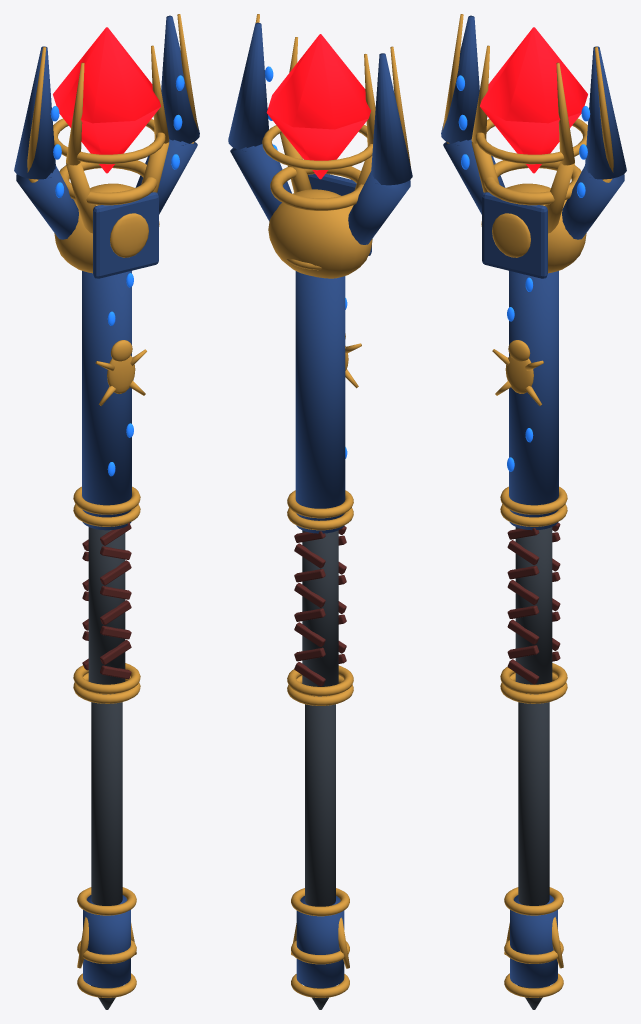
Rendered from royal_vanguard_staff.glb.
The picture shows the model from 3 angles, left to right: view 1: azimuth 30°, elevation 25°; view 2: azimuth 150°, elevation 25°; view 3: azimuth 330°, elevation 25°; orthographic projection.
Parts seen in each view (by area): view 1: RoyalStaff_UpperShaft, RoyalStaff_LowerShaft, RoyalStaff_RubyFocusUpper, RoyalStaff_GripCore, RoyalStaff_HeadShield, RoyalStaff_BlueButtSleeve, RoyalStaff_BlueBladeUpper-1, RoyalStaff_BlueBladeUpper1, RoyalStaff_BlueBladeLower-1, RoyalStaff_RubyFocusLower, RoyalStaff_FocusLowerCollar, RoyalStaff_HeadGoldBase (+17 smaller); view 2: RoyalStaff_UpperShaft, RoyalStaff_LowerShaft, RoyalStaff_RubyFocusUpper, RoyalStaff_HeadGoldBase, RoyalStaff_GripCore, RoyalStaff_BlueBladeUpper-1, RoyalStaff_BlueBladeUpper1, RoyalStaff_BlueButtSleeve, RoyalStaff_BlueBladeLower-1, RoyalStaff_RubyFocusLower, RoyalStaff_BlueBladeLower1, RoyalStaff_FocusLowerCollar (+12 smaller); view 3: RoyalStaff_UpperShaft, RoyalStaff_LowerShaft, RoyalStaff_RubyFocusUpper, RoyalStaff_GripCore, RoyalStaff_HeadShield, RoyalStaff_BlueButtSleeve, RoyalStaff_BlueBladeUpper1, RoyalStaff_BlueBladeUpper-1, RoyalStaff_BlueBladeLower1, RoyalStaff_RubyFocusLower, RoyalStaff_FocusLowerCollar, RoyalStaff_HeadGoldBase (+17 smaller).
Part boxes in pixels (x1,y1,x2,y2): RoyalStaff_UpperShaft: (82, 271, 131, 530); RoyalStaff_LowerShaft: (91, 693, 122, 905); RoyalStaff_RubyFocusUpper: (53, 27, 160, 123); RoyalStaff_GripCore: (88, 527, 125, 684); RoyalStaff_HeadShield: (93, 192, 158, 278); RoyalStaff_BlueButtSleeve: (83, 895, 130, 987); RoyalStaff_BlueBladeUpper-1: (14, 46, 55, 179); RoyalStaff_BlueBladeUpper1: (161, 15, 199, 145); RoyalStaff_BlueBladeLower-1: (16, 165, 78, 239); RoyalStaff_RubyFocusLower: (59, 107, 160, 173); RoyalStaff_FocusLowerCollar: (59, 160, 157, 205); RoyalStaff_HeadGoldBase: (54, 183, 159, 273); RoyalStaff_UpperShaft: (295, 271, 345, 533); RoyalStaff_LowerShaft: (305, 695, 335, 906); RoyalStaff_RubyFocusUpper: (266, 34, 370, 129); RoyalStaff_HeadGoldBase: (268, 189, 372, 278); RoyalStaff_GripCore: (302, 530, 338, 686); RoyalStaff_BlueBladeUpper-1: (371, 53, 412, 185); RoyalStaff_BlueBladeUpper1: (228, 22, 268, 151); RoyalStaff_BlueButtSleeve: (296, 896, 344, 987); RoyalStaff_BlueBladeLower-1: (348, 171, 410, 244); RoyalStaff_RubyFocusLower: (267, 113, 368, 179); RoyalStaff_BlueBladeLower1: (230, 143, 291, 221); RoyalStaff_FocusLowerCollar: (270, 166, 363, 210); RoyalStaff_UpperShaft: (509, 271, 558, 530); RoyalStaff_LowerShaft: (518, 693, 549, 905); RoyalStaff_RubyFocusUpper: (480, 27, 587, 123); RoyalStaff_GripCore: (515, 527, 552, 684); RoyalStaff_HeadShield: (482, 192, 547, 278); RoyalStaff_BlueButtSleeve: (510, 895, 557, 987); RoyalStaff_BlueBladeUpper1: (585, 46, 626, 179); RoyalStaff_BlueBladeUpper-1: (441, 15, 479, 145); RoyalStaff_BlueBladeLower1: (562, 165, 624, 239); RoyalStaff_RubyFocusLower: (480, 107, 581, 173); RoyalStaff_FocusLowerCollar: (483, 160, 581, 205); RoyalStaff_HeadGoldBase: (481, 183, 586, 273).
Bounding box in the file's own units: 0.3897 × 2.03 × 0.22.
